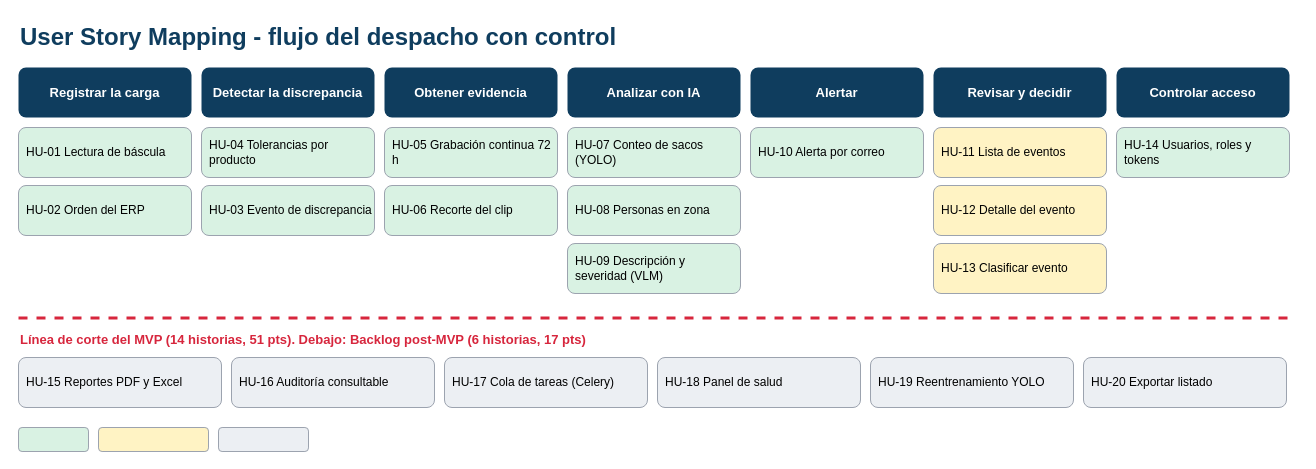
This 1316x469 diagram has some shape labels left out. Here are the shapes that lost their labels. From the top down, the centre of each, then its label:
At pixel 53 439: "DONE".
At pixel 153 439: "Pendiente MVP".
At pixel 263 439: "Post-MVP".
